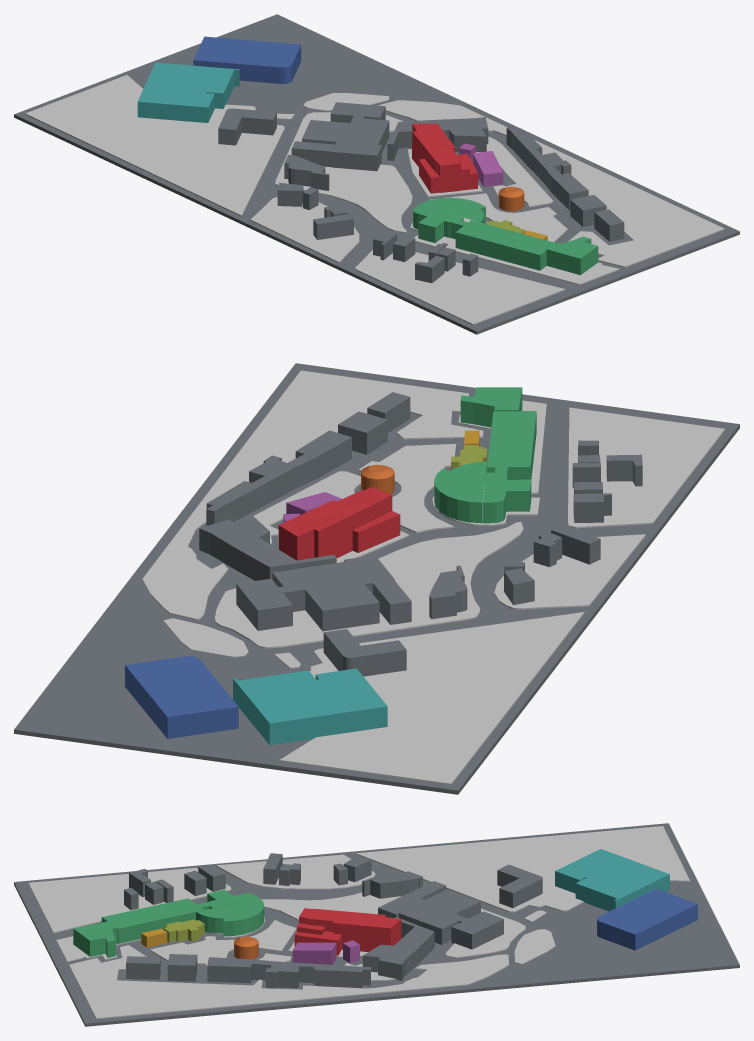
File: Camino_Edif.fbx
3 views of the same model, one above another, from view 1: azimuth 30°, elevation 25°; view 2: azimuth 150°, elevation 25°; view 3: azimuth 270°, elevation 25° (orthographic). The views are drawn at different scales.
Visible parts, largest first — view 1: ELEMENTOS_edificios_v001:Layer11, ELEMENTOS_edificios_v001:Layer12, ELEMENTOS_edificios_v001:Layer1, ELEMENTOS_edificios_v001:Layer5, ELEMENTOS_edificios_v001:Layer4, ELEMENTOS_edificios_v001:Layer3, ELEMENTOS_edificios_v001:Layer9, ELEMENTOS_edificios_v001:Layer10, ELEMENTOS_edificios_v001:Layer8; view 2: ELEMENTOS_edificios_v001:Layer11, ELEMENTOS_edificios_v001:Layer12, ELEMENTOS_edificios_v001:Layer1, ELEMENTOS_edificios_v001:Layer5, ELEMENTOS_edificios_v001:Layer4, ELEMENTOS_edificios_v001:Layer3, ELEMENTOS_edificios_v001:Layer9, ELEMENTOS_edificios_v001:Layer8, ELEMENTOS_edificios_v001:Layer10; view 3: ELEMENTOS_edificios_v001:Layer11, ELEMENTOS_edificios_v001:Layer12, ELEMENTOS_edificios_v001:Layer1, ELEMENTOS_edificios_v001:Layer5, ELEMENTOS_edificios_v001:Layer4, ELEMENTOS_edificios_v001:Layer3, ELEMENTOS_edificios_v001:Layer9, ELEMENTOS_edificios_v001:Layer10, ELEMENTOS_edificios_v001:Layer6, ELEMENTOS_edificios_v001:Layer8, ELEMENTOS_edificios_v001:Layer7.
Boxes of the visible parts, bbox=[...] form: ELEMENTOS_edificios_v001:Layer11: bbox=[25, 75, 724, 324]; ELEMENTOS_edificios_v001:Layer12: bbox=[14, 14, 739, 334]; ELEMENTOS_edificios_v001:Layer1: bbox=[218, 102, 624, 283]; ELEMENTOS_edificios_v001:Layer5: bbox=[413, 197, 598, 275]; ELEMENTOS_edificios_v001:Layer4: bbox=[137, 62, 239, 122]; ELEMENTOS_edificios_v001:Layer3: bbox=[193, 36, 301, 83]; ELEMENTOS_edificios_v001:Layer9: bbox=[412, 123, 478, 193]; ELEMENTOS_edificios_v001:Layer10: bbox=[459, 143, 503, 186]; ELEMENTOS_edificios_v001:Layer8: bbox=[498, 186, 524, 211]; ELEMENTOS_edificios_v001:Layer11: bbox=[142, 370, 724, 784]; ELEMENTOS_edificios_v001:Layer12: bbox=[14, 363, 739, 794]; ELEMENTOS_edificios_v001:Layer1: bbox=[199, 392, 642, 676]; ELEMENTOS_edificios_v001:Layer5: bbox=[434, 387, 536, 523]; ELEMENTOS_edificios_v001:Layer4: bbox=[233, 668, 387, 745]; ELEMENTOS_edificios_v001:Layer3: bbox=[125, 656, 238, 738]; ELEMENTOS_edificios_v001:Layer9: bbox=[278, 487, 400, 560]; ELEMENTOS_edificios_v001:Layer8: bbox=[361, 464, 394, 494]; ELEMENTOS_edificios_v001:Layer10: bbox=[283, 492, 341, 522]; ELEMENTOS_edificios_v001:Layer11: bbox=[28, 826, 690, 1018]; ELEMENTOS_edificios_v001:Layer12: bbox=[14, 823, 739, 1026]; ELEMENTOS_edificios_v001:Layer1: bbox=[124, 853, 542, 988]; ELEMENTOS_edificios_v001:Layer5: bbox=[73, 889, 264, 957]; ELEMENTOS_edificios_v001:Layer4: bbox=[555, 849, 669, 911]; ELEMENTOS_edificios_v001:Layer3: bbox=[597, 888, 697, 950]; ELEMENTOS_edificios_v001:Layer9: bbox=[294, 908, 401, 955]; ELEMENTOS_edificios_v001:Layer10: bbox=[292, 940, 359, 964]; ELEMENTOS_edificios_v001:Layer6: bbox=[163, 919, 204, 942]; ELEMENTOS_edificios_v001:Layer8: bbox=[234, 936, 258, 959]; ELEMENTOS_edificios_v001:Layer7: bbox=[141, 928, 167, 947].
Size of the model in its own units: 23.11 by 1.77 by 35.36.
